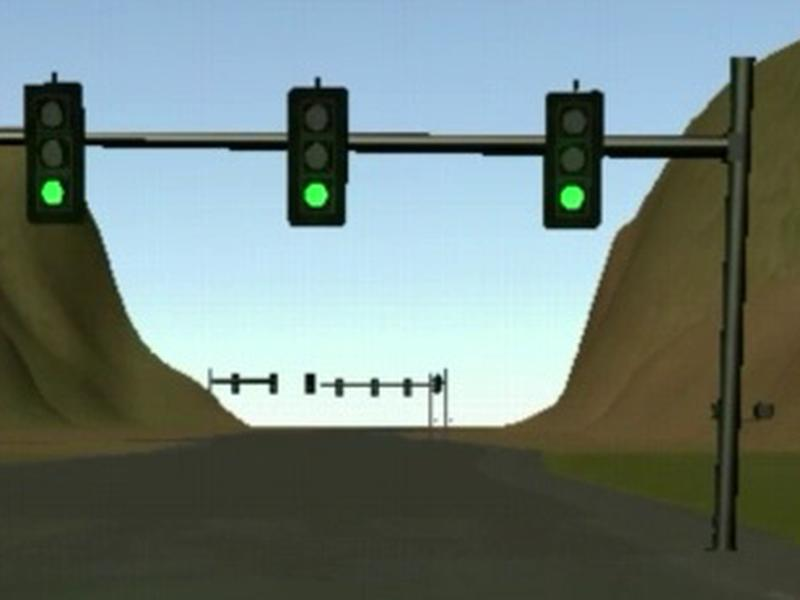Green: (22, 80, 85, 222), (288, 86, 348, 226), (544, 89, 603, 228)
